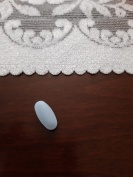Apranax: (33, 100, 58, 132)
